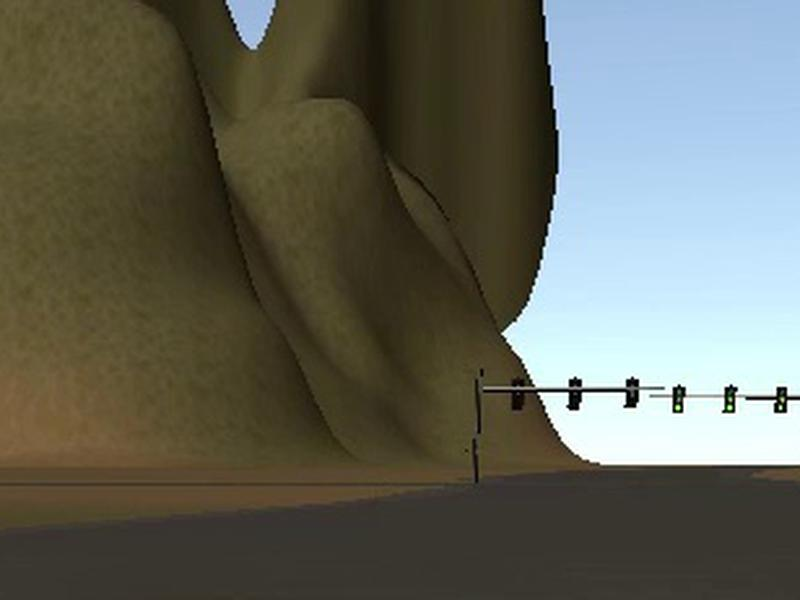Green: (721, 386, 738, 413), (671, 384, 686, 413), (774, 386, 787, 412)
